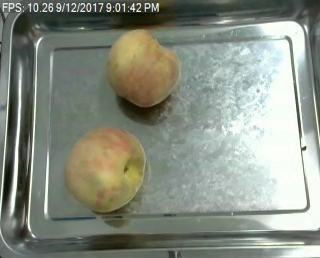Peach: (64, 126, 146, 213), (106, 27, 178, 107)
